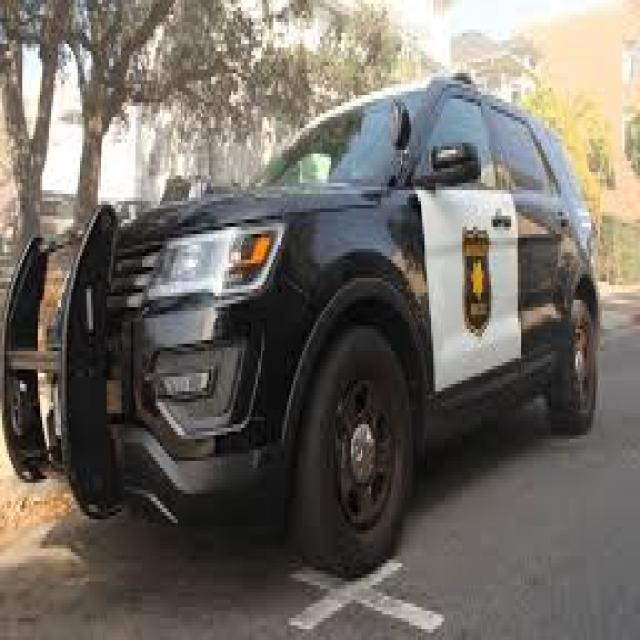cop: (0, 72, 603, 578)
